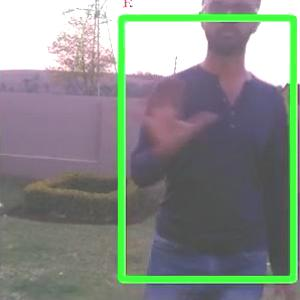follow_hand: (122, 71, 215, 157)
